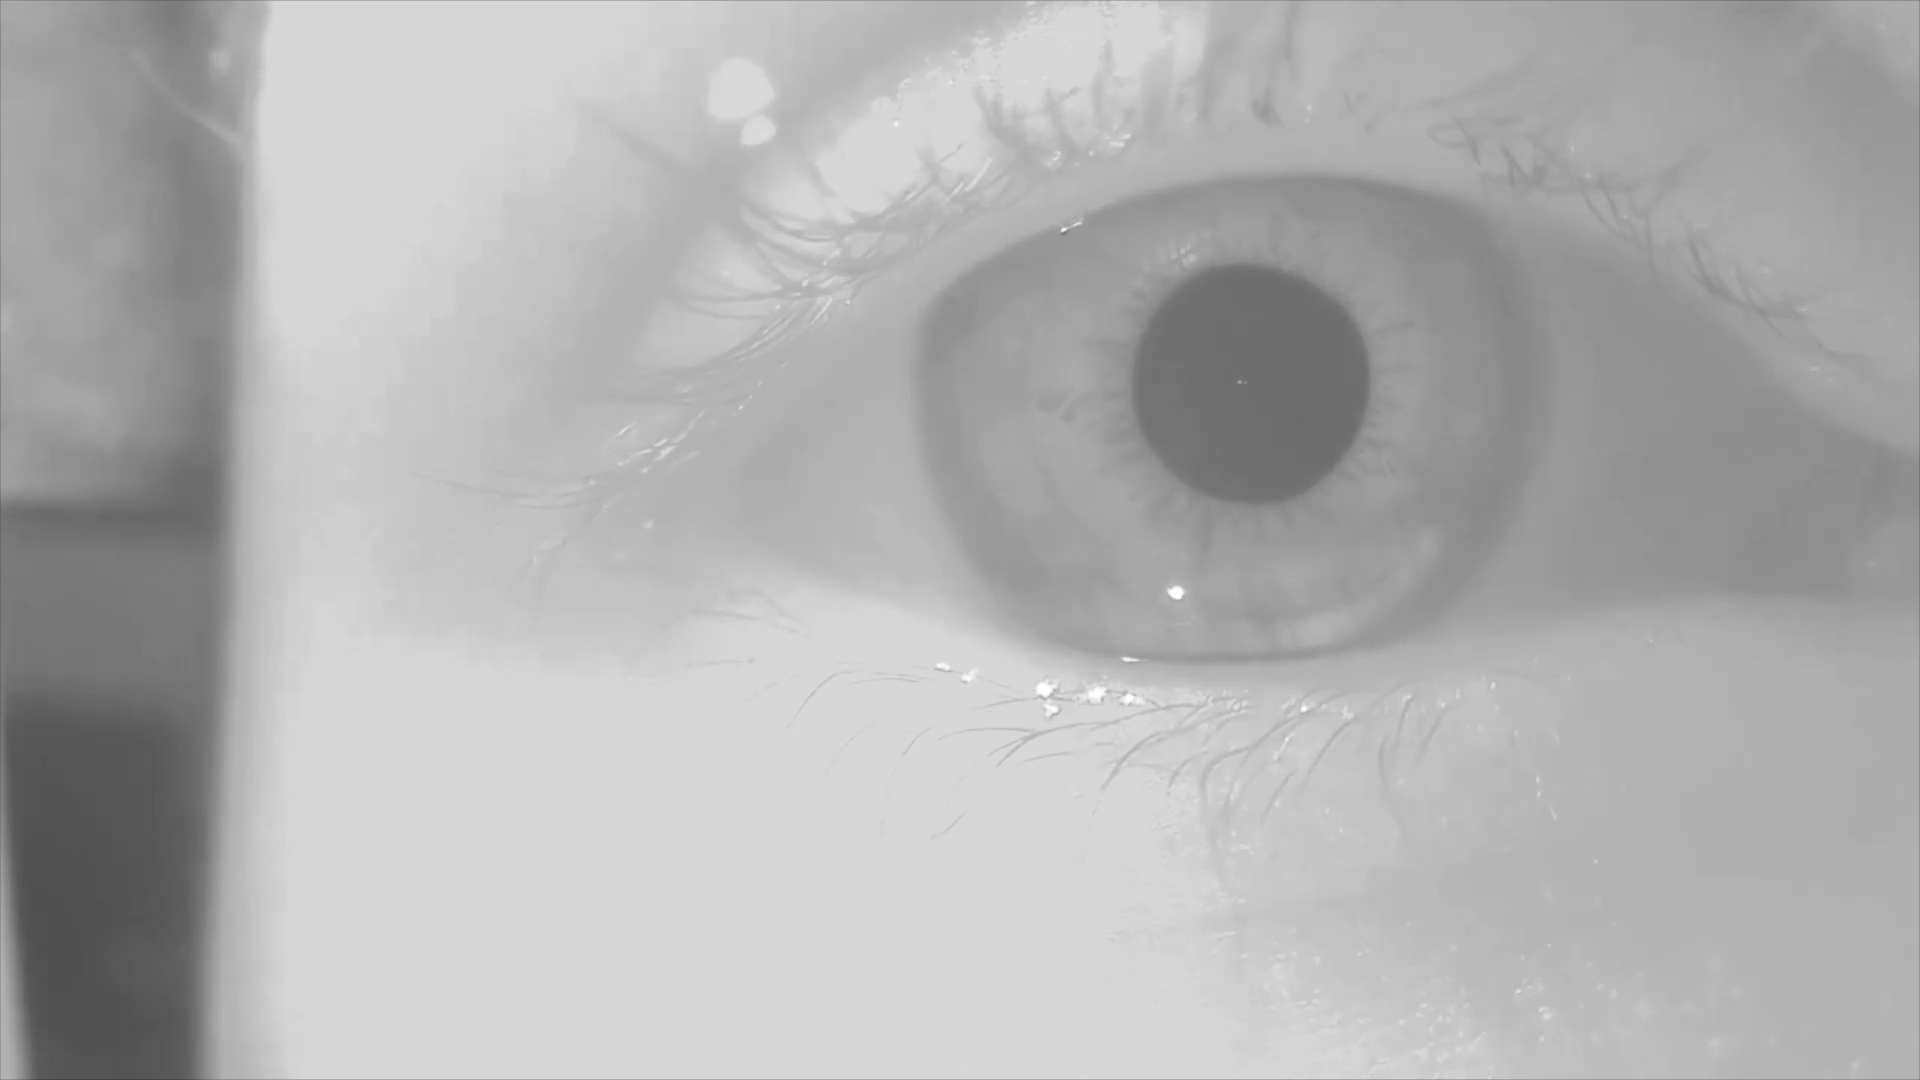pupil: (1133, 268, 1373, 504)
